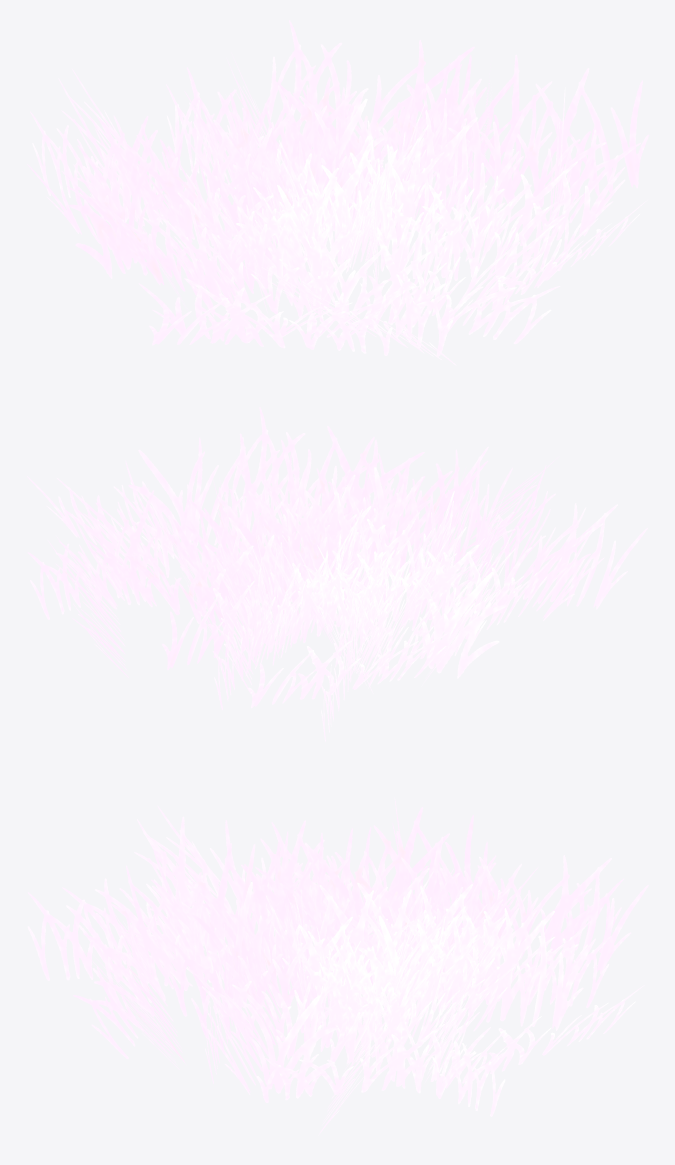
3 renders of one model, top to bottom at view 1: azimuth 30°, elevation 25°; view 2: azimuth 150°, elevation 25°; view 3: azimuth 270°, elevation 25°, orthographic. The views are drawn at different scales.
Parts seen in each view (by area): view 1: SM_GF_GrassShort_01_NoRVT_LOD0; view 2: SM_GF_GrassShort_01_NoRVT_LOD0; view 3: SM_GF_GrassShort_01_NoRVT_LOD0.
Boxes of the visible parts, x1,y1,x2,y2 form: SM_GF_GrassShort_01_NoRVT_LOD0: (27, 20, 649, 365); SM_GF_GrassShort_01_NoRVT_LOD0: (27, 407, 647, 741); SM_GF_GrassShort_01_NoRVT_LOD0: (27, 797, 648, 1135).
Size of the model in its own units: 1.12 by 0.3166 by 1.12.
Materials: 1 (1 with a texture image).
